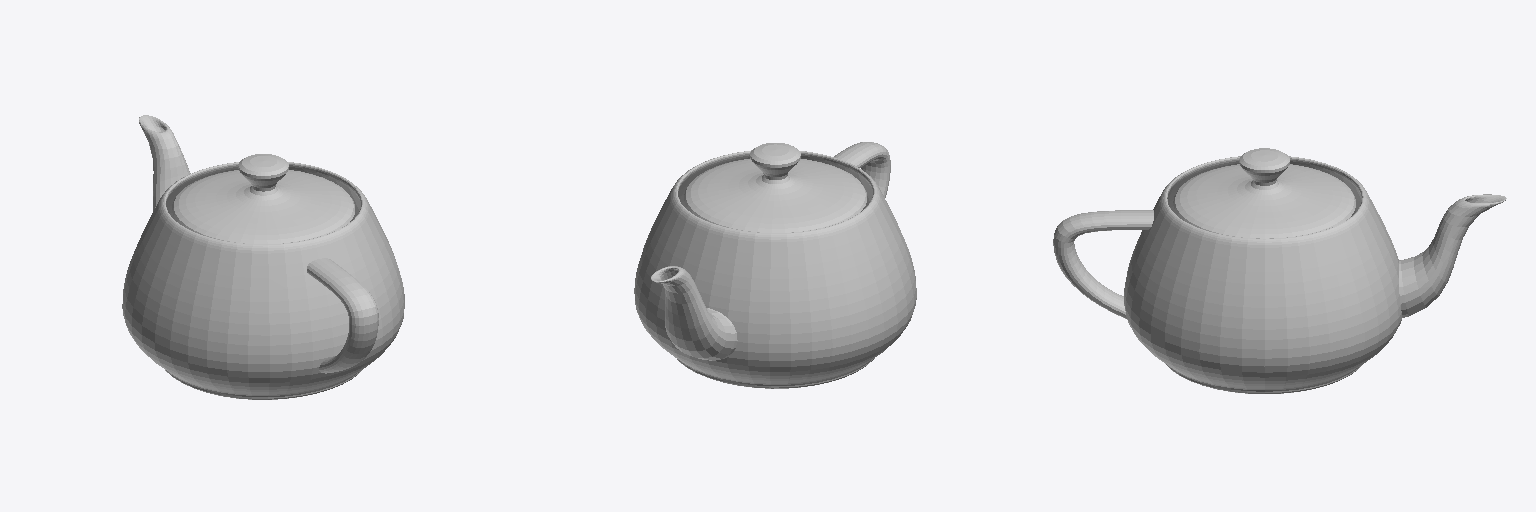
File: kettle.obj
3 renders of one model, left to right at view 1: azimuth 30°, elevation 25°; view 2: azimuth 150°, elevation 25°; view 3: azimuth 270°, elevation 25°, orthographic.
Visible parts, largest first — view 1: teapot; view 2: teapot; view 3: teapot.
Part boxes in pixels (left/top/right/bottom): teapot: left=122, top=115, right=404, bottom=399; teapot: left=634, top=142, right=916, bottom=388; teapot: left=1053, top=148, right=1506, bottom=393.
Size of the model in its own units: 4 by 3.15 by 6.43.